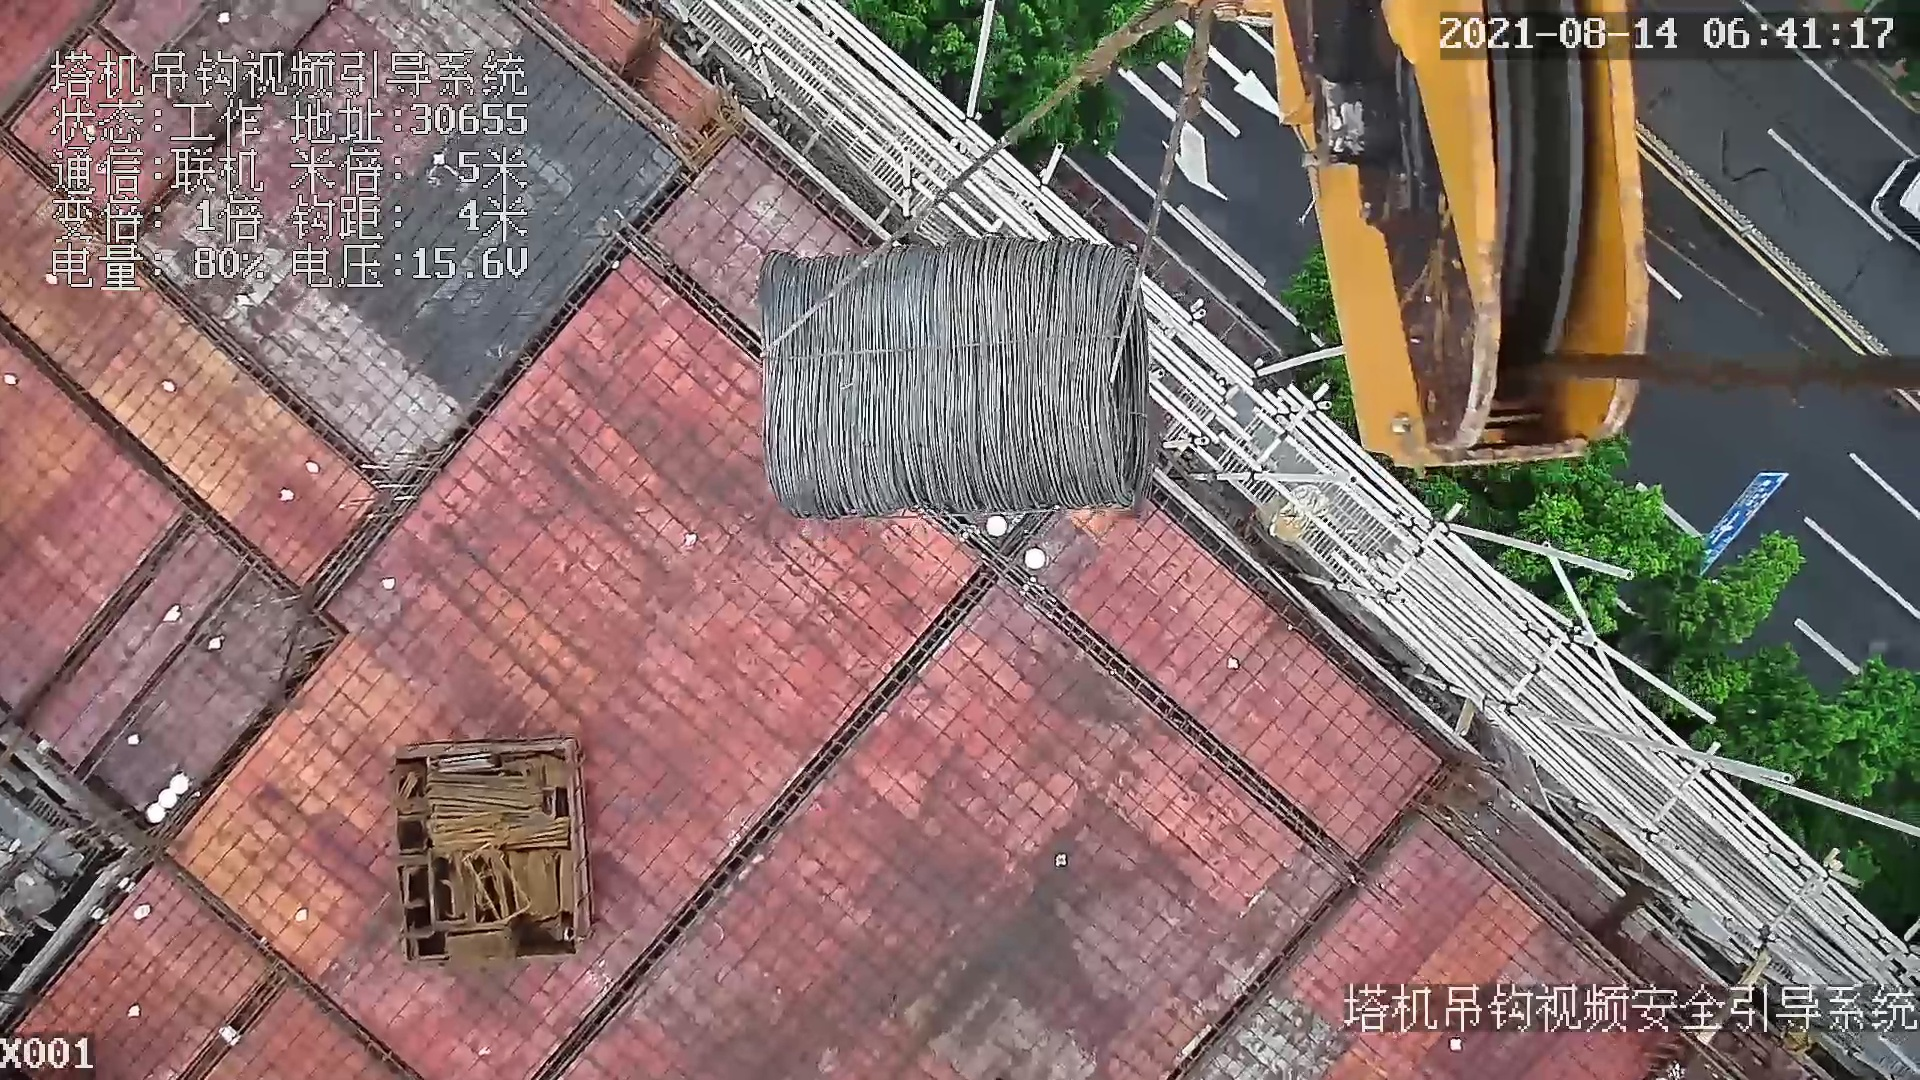hook: (1168, 1, 1654, 467)
